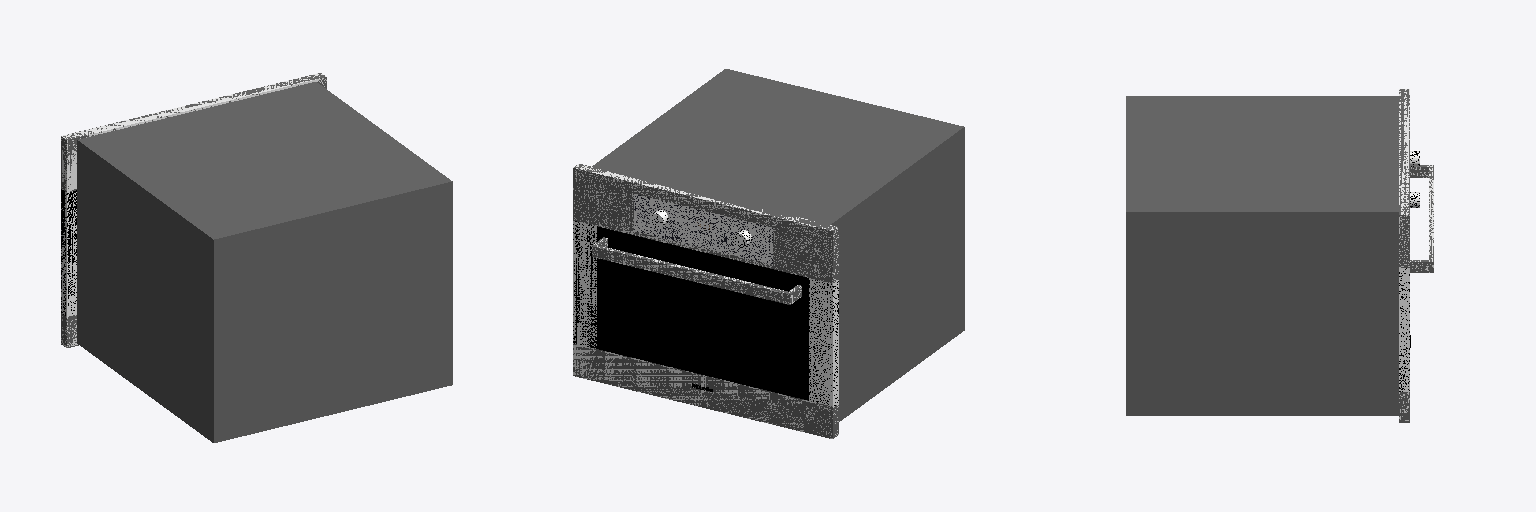
3 renders of one model, left to right at view 1: azimuth 30°, elevation 25°; view 2: azimuth 150°, elevation 25°; view 3: azimuth 270°, elevation 25°, orthographic.
Parts seen in each view (by area): view 1: mesh1_mesh1-geometry, mesh14_mesh14-geometry; view 2: mesh1_mesh1-geometry, mesh14_mesh14-geometry; view 3: mesh1_mesh1-geometry, mesh14_mesh14-geometry.
Boxes of the visible parts, x1,y1,x2,y2 form: mesh1_mesh1-geometry: [77, 82, 452, 442]; mesh14_mesh14-geometry: [61, 73, 326, 347]; mesh1_mesh1-geometry: [592, 69, 964, 421]; mesh14_mesh14-geometry: [573, 164, 838, 438]; mesh1_mesh1-geometry: [1126, 96, 1398, 415]; mesh14_mesh14-geometry: [1399, 89, 1433, 422].
Size of the model in its own units: 0.615 by 0.4708 by 0.6325.
6 materials, 1 textured.